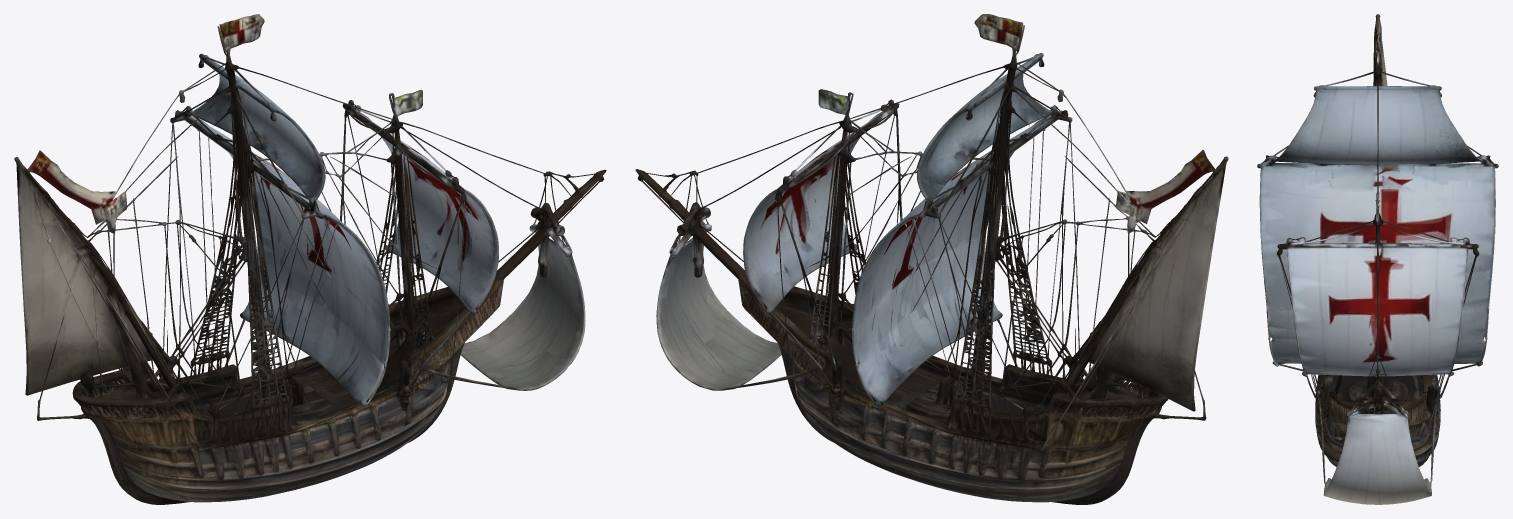
The model's file is player-ship-lite.glb.
The picture shows the model from 3 angles, left to right: view 1: azimuth 30°, elevation 25°; view 2: azimuth 150°, elevation 25°; view 3: azimuth 270°, elevation 25°; orthographic projection. The views are drawn at different scales.
Parts seen in each view (by area): view 1: node_0; view 2: node_0; view 3: node_0.
Part boxes in pixels (x1,y1,x2,y2): node_0: [14, 14, 606, 504]; node_0: [635, 14, 1228, 504]; node_0: [1257, 14, 1498, 504].
Bounding box in the file's own units: 1.08 × 0.8258 × 0.4525.
1 material, 1 textured.
